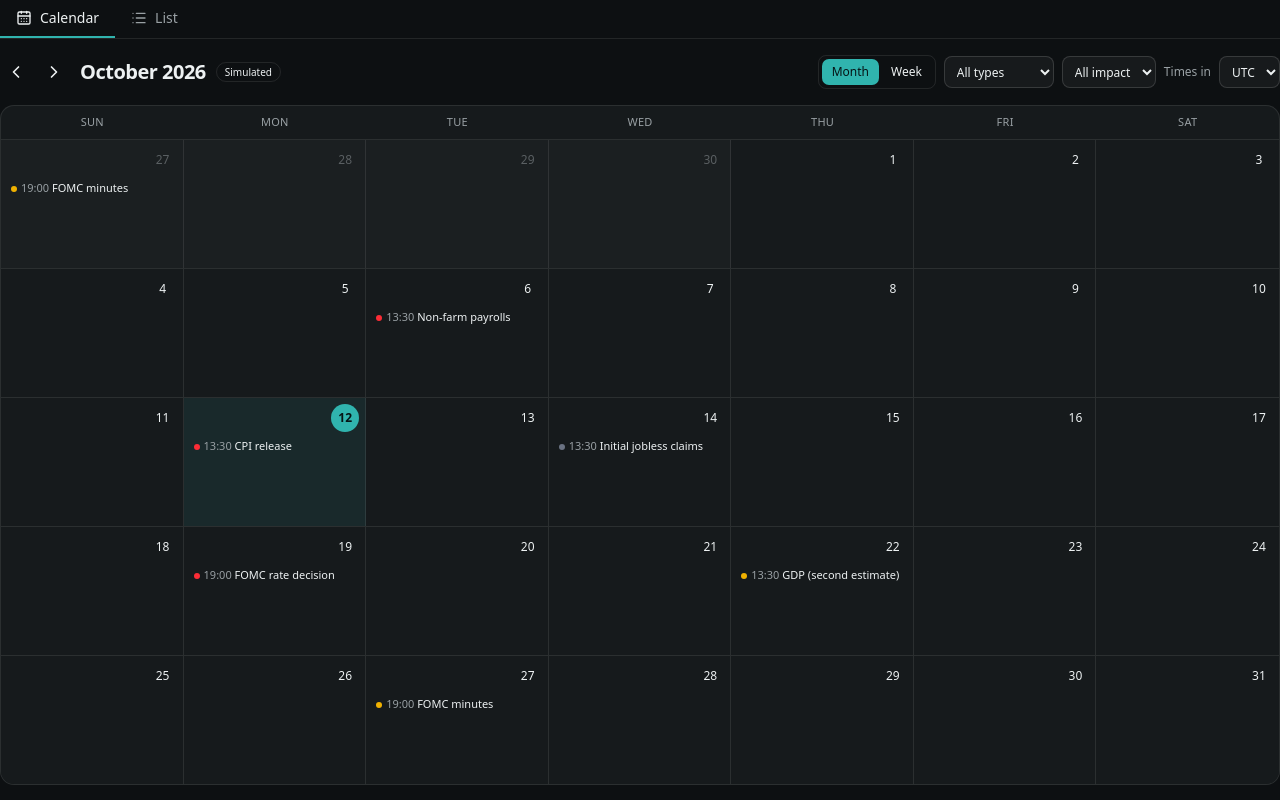
Test: EconomicCalendar › opens the details of a clicked event
Click the button "19:00 FOMC rate decision" at (274, 574), box [190,564,359,584]
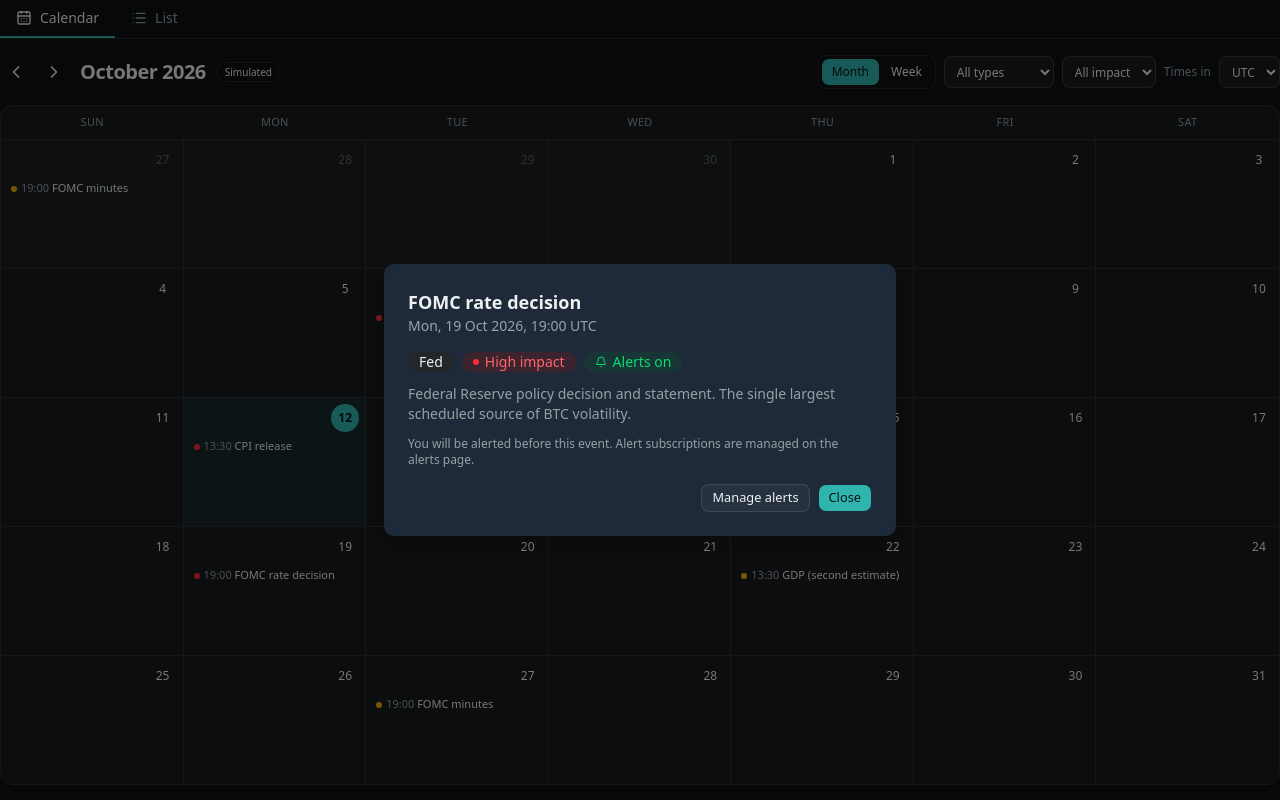
Expected: the text "Federal Reserve policy decision and statement. The single largest scheduled source of BTC volatility." is shown, [408,384,835,423]
Expected: the link "Manage alerts" is shown, [702,484,810,512]
